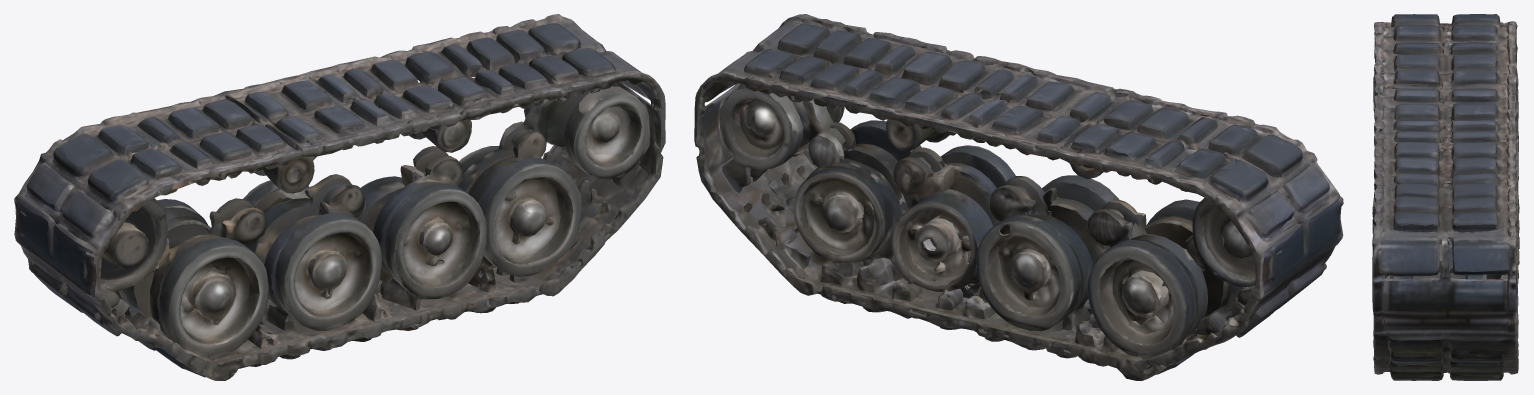
The model's file is heavy_tracks_only_v2.glb.
3 renders of one model, left to right at view 1: azimuth 30°, elevation 25°; view 2: azimuth 150°, elevation 25°; view 3: azimuth 270°, elevation 25°, orthographic. The views are drawn at different scales.
Visible parts, largest first — view 1: geometry_0; view 2: geometry_0; view 3: geometry_0.
Boxes of the visible parts, left/top/right/bottom form: geometry_0: left=14, top=14, right=665, bottom=380; geometry_0: left=694, top=14, right=1343, bottom=380; geometry_0: left=1372, top=14, right=1519, bottom=380.
Size of the model in its own units: 3.5 by 1.27 by 0.8879.
1 material, 1 textured.
